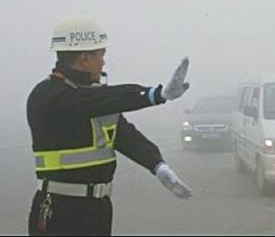person: (20, 16, 195, 237)
